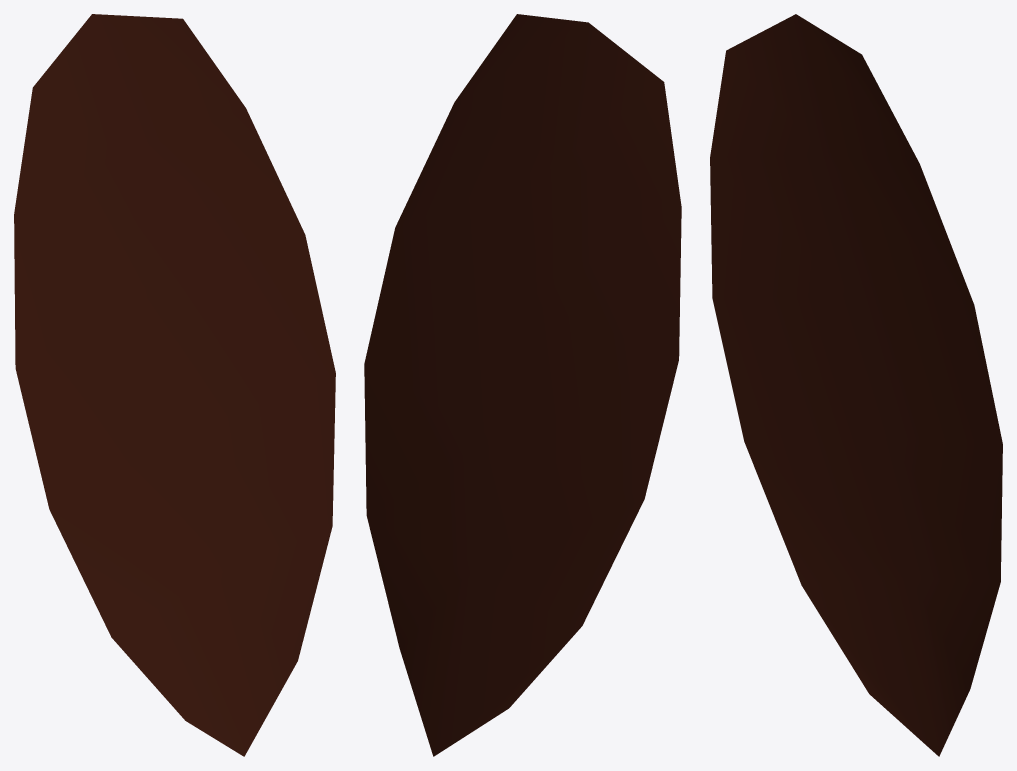
Rendered from hen_feather_flight_tertiary_048.obj.
The picture shows the model from 3 angles, left to right: view 1: azimuth 30°, elevation 25°; view 2: azimuth 150°, elevation 25°; view 3: azimuth 330°, elevation 25°; orthographic projection. The views are drawn at different scales.
Visible parts, largest first — view 1: feather_flight_tertiary_048; view 2: feather_flight_tertiary_048; view 3: feather_flight_tertiary_048.
Part boxes in pixels (left/top/right/bottom): feather_flight_tertiary_048: left=14, top=14, right=335, bottom=756; feather_flight_tertiary_048: left=364, top=14, right=681, bottom=756; feather_flight_tertiary_048: left=710, top=14, right=1002, bottom=756.
Size of the model in its own units: 0.0107 by 0.0249 by 0.000685.
